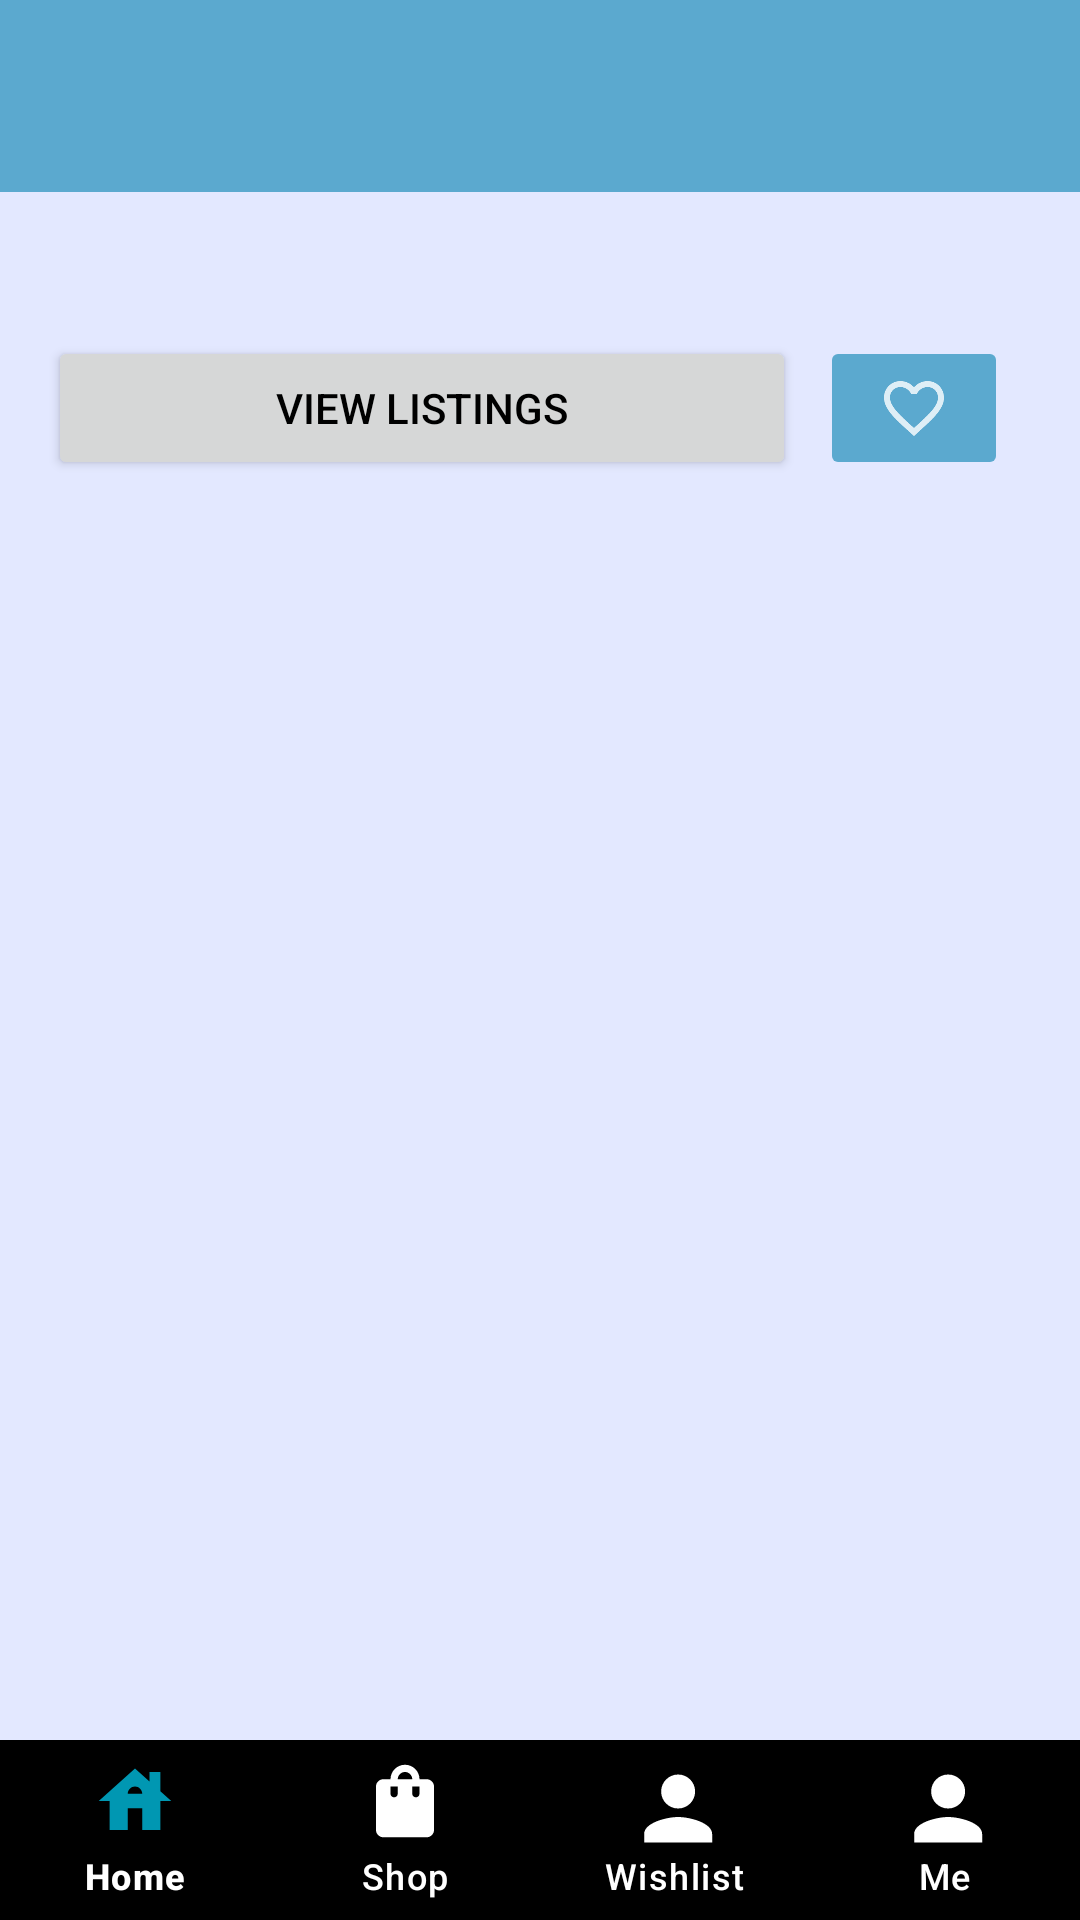

Named icons in this screenshot (1080px×1920px) and their centers, (x=x, y=y):
favorite: (x=914, y=408)
